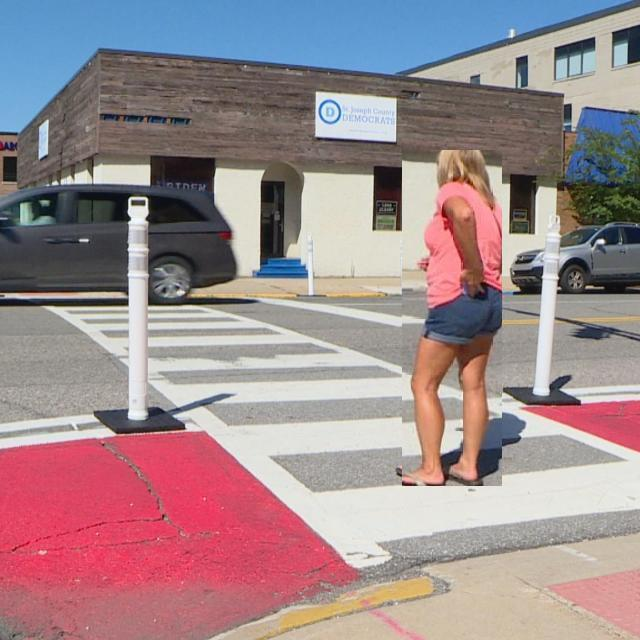without scooter: (402, 150, 502, 486)
